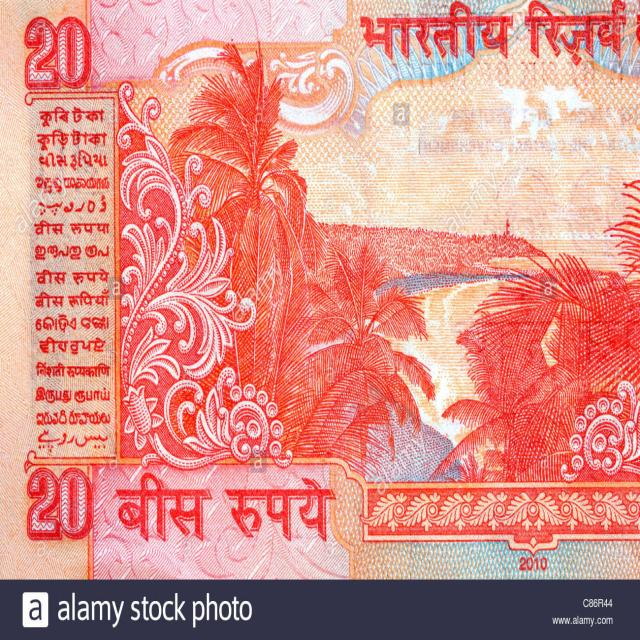20IndianRupees: (0, 1, 640, 578)
